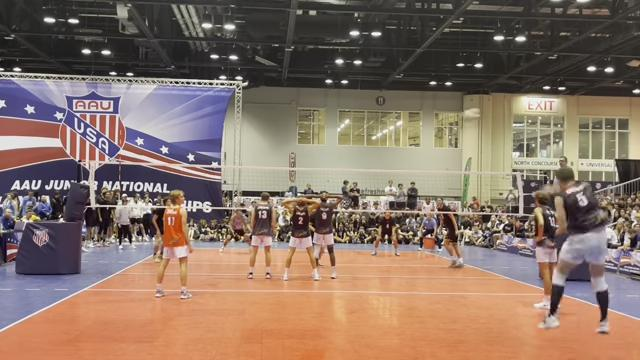Player: (155, 190, 192, 299), (282, 198, 319, 280), (533, 191, 556, 308), (313, 192, 342, 278), (248, 192, 275, 278), (437, 198, 463, 267), (220, 209, 248, 252), (372, 211, 399, 255), (152, 197, 170, 262)
Serve: (529, 169, 619, 336)
